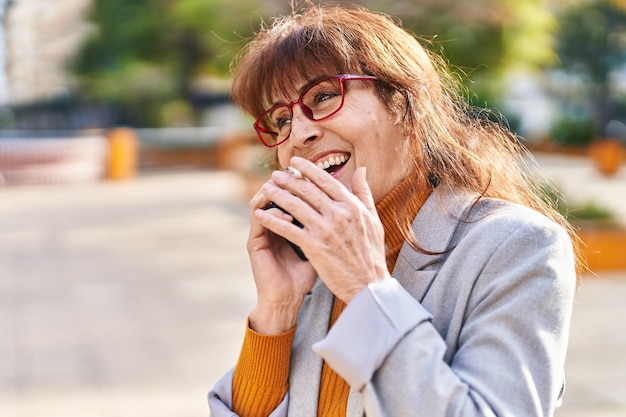cigarette: (283, 164, 305, 181)
